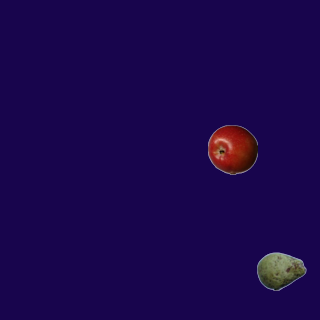Apple Braeburn: (207, 124, 257, 174)
Pear Stone: (256, 246, 306, 296)
